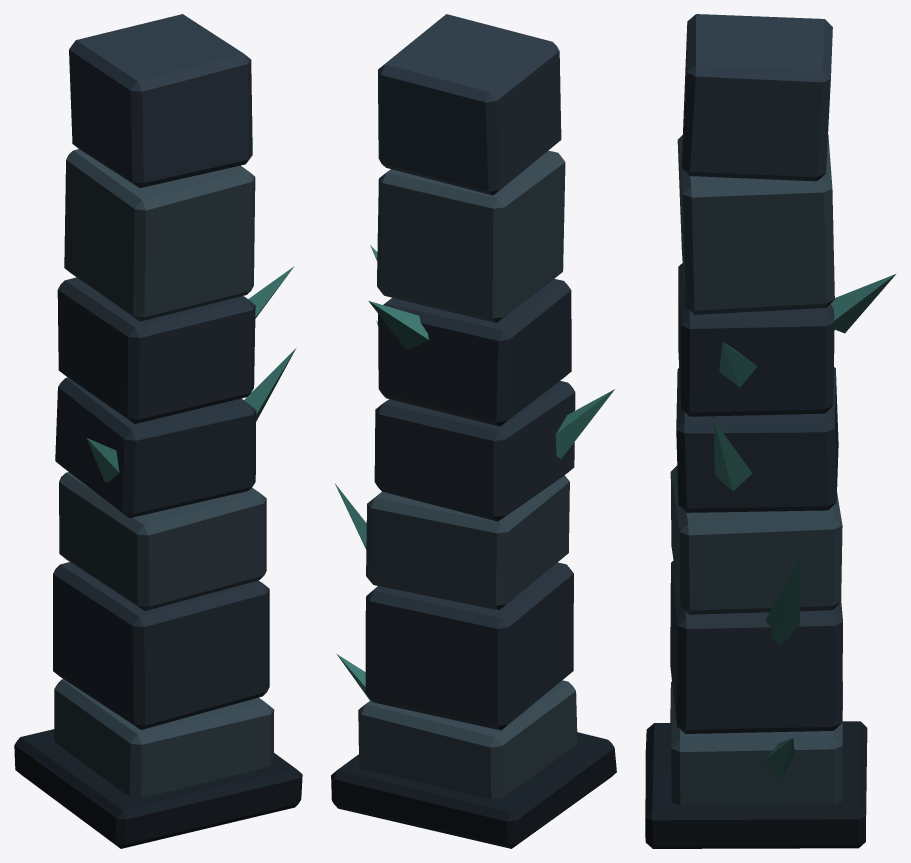
The model's file is inc_mare_pilar.fbx.
The picture shows the model from 3 angles, left to right: view 1: azimuth 30°, elevation 25°; view 2: azimuth 150°, elevation 25°; view 3: azimuth 270°, elevation 25°; orthographic projection. The views are drawn at different scales.
Visible parts, largest first — view 1: inc_mare_pilar; view 2: inc_mare_pilar; view 3: inc_mare_pilar.
Boxes of the visible parts, bbox=[...] form: inc_mare_pilar: bbox=[14, 14, 302, 848]; inc_mare_pilar: bbox=[331, 14, 616, 848]; inc_mare_pilar: bbox=[645, 14, 895, 848].
Size of the model in its own units: 4.42 by 13.86 by 4.11.
